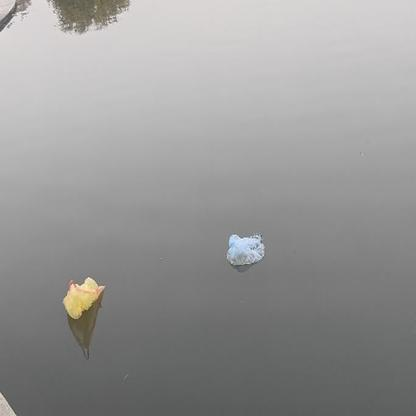plastic bag: (62, 277, 105, 319), (226, 232, 265, 266)
